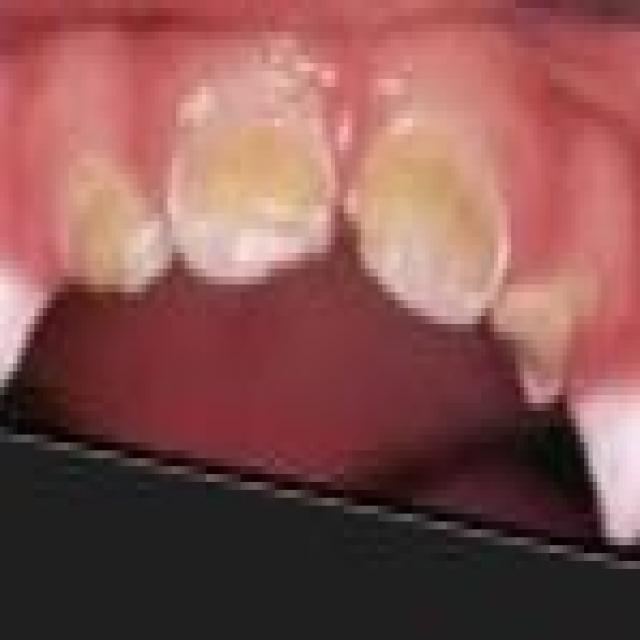caries: (163, 44, 338, 288), (347, 119, 511, 333), (55, 136, 170, 309), (490, 252, 591, 412)
